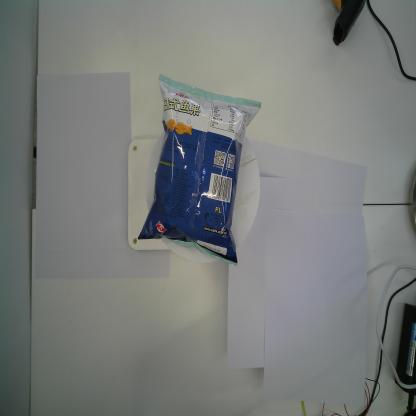Puffed Food: (136, 73, 262, 267)
